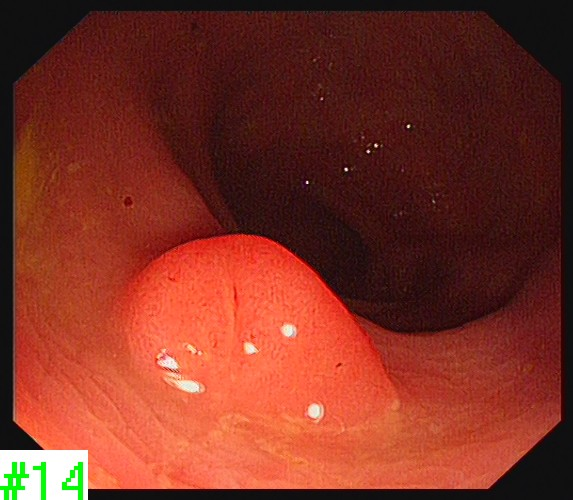adenoma: (114, 227, 411, 420)
